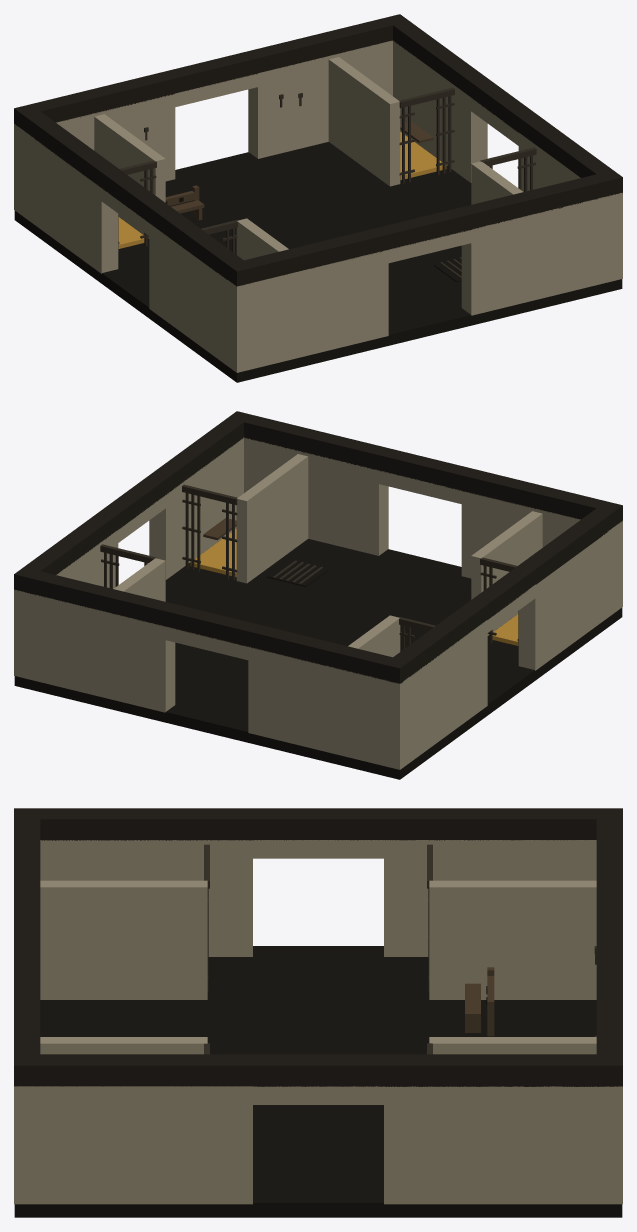
The model's file is LateOubliette.fbx.
The picture shows the model from 3 angles, top to bottom: view 1: azimuth 30°, elevation 25°; view 2: azimuth 150°, elevation 25°; view 3: azimuth 270°, elevation 25°; orthographic projection. The views are drawn at different scales.
Parts seen in each view (by area): view 1: LateOubliette; view 2: LateOubliette; view 3: LateOubliette.
Part boxes in pixels (x1,y1,x2,y2): LateOubliette: (14, 14, 622, 382); LateOubliette: (14, 411, 622, 779); LateOubliette: (14, 808, 622, 1217).
Size of the model in its own units: 1202 by 332 by 1202.
6 materials, 6 textured.
